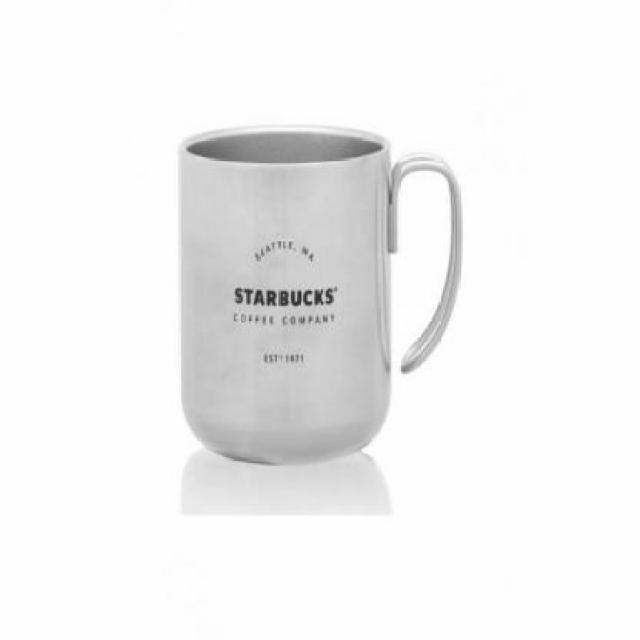taza: (180, 123, 466, 466)
